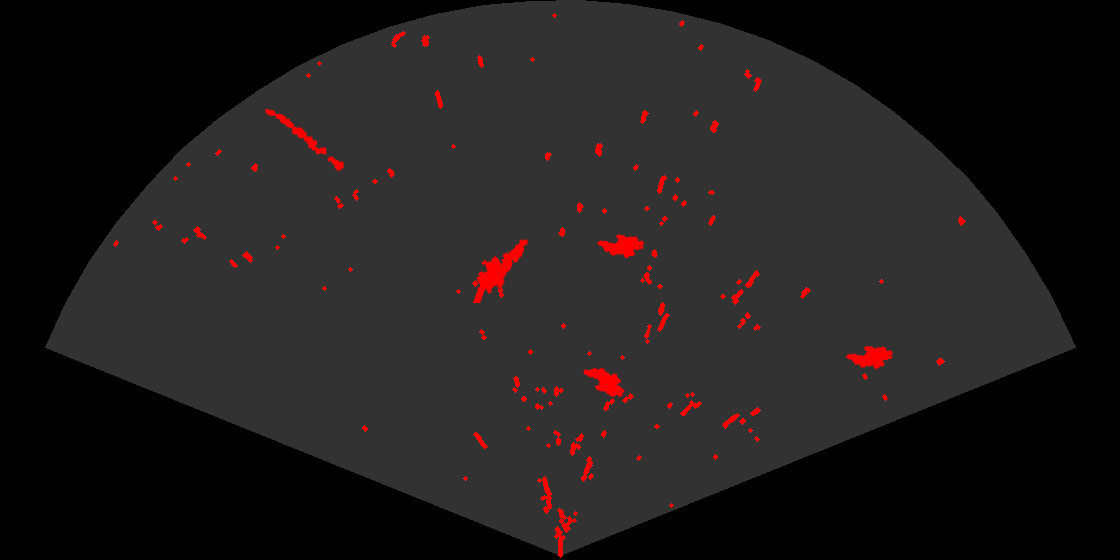AUV: (582, 366, 626, 399), (844, 344, 895, 371), (596, 233, 646, 260)
chain: (264, 107, 346, 173)
frogman: (471, 238, 530, 303)
